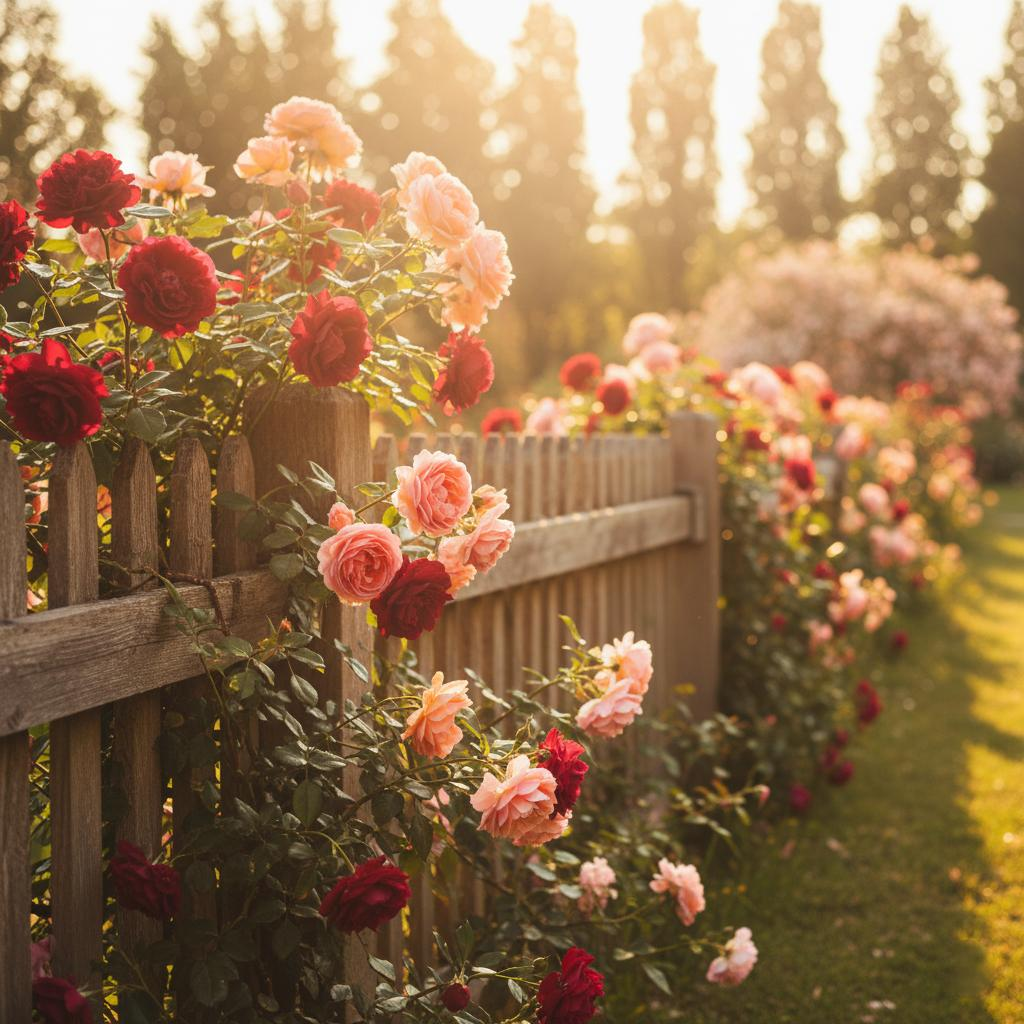rose: (0, 81, 777, 1024)
